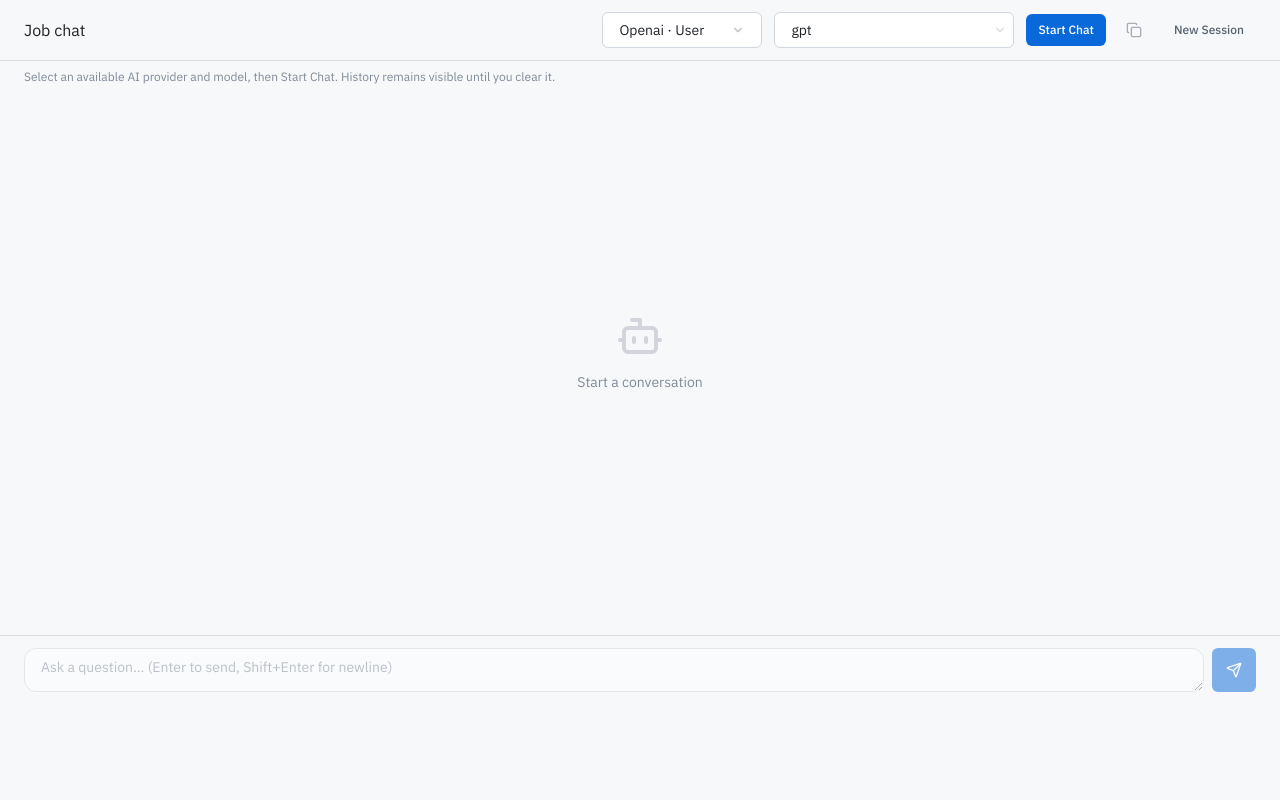
Scenario: explains how to recover if init returns no session
Click the button "Start Chat". click: (1066, 30)
box: [1026, 14, 1106, 46]
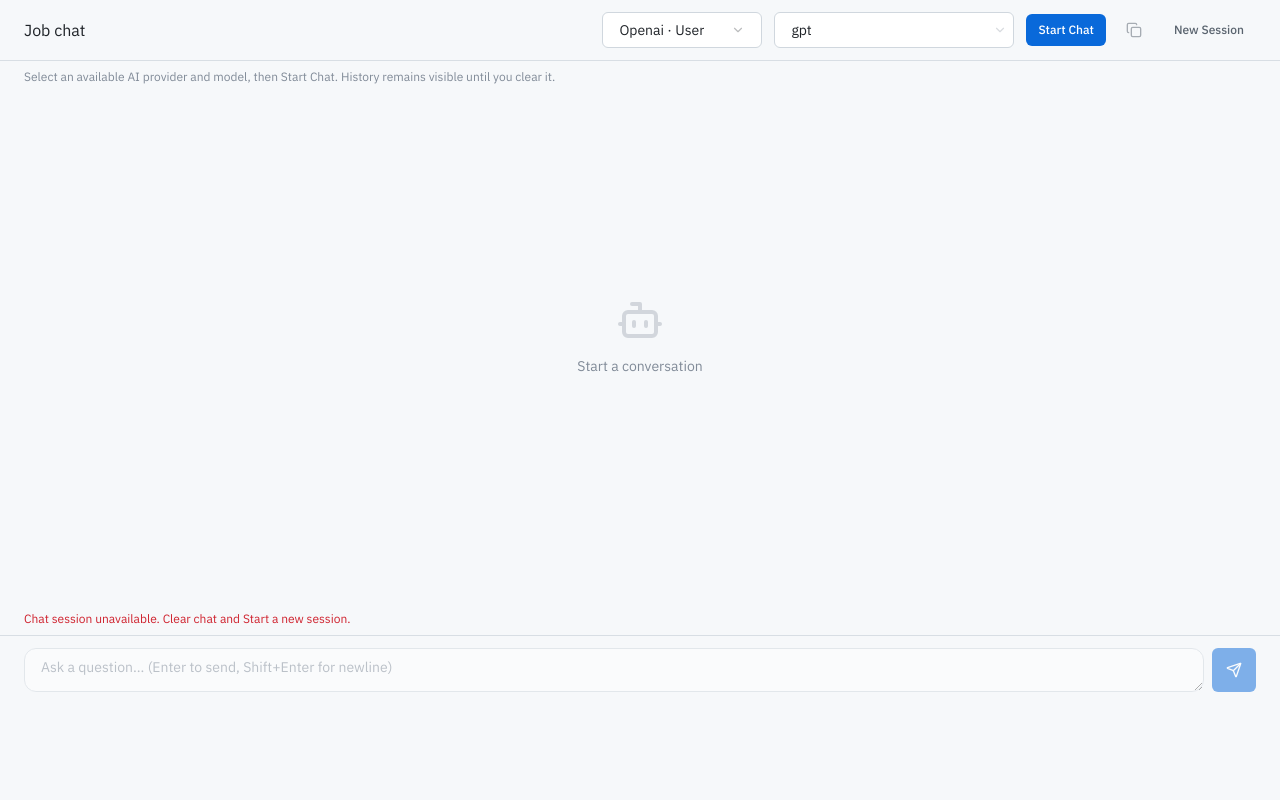
Expected: the text box with placeholder "Ask a question... (Enter to send, Shift+Enter for newline)" is disabled, [24, 648, 1204, 692]
Expected: the message "Chat session unavailable. Clear chat and Start a new session." is shown, [24, 611, 350, 626]
